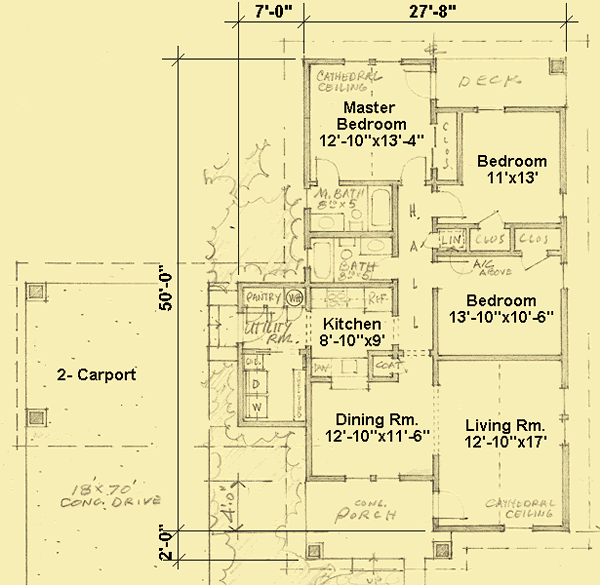door: (402, 67, 436, 104), (309, 151, 346, 185), (397, 151, 431, 187), (433, 188, 468, 222), (517, 250, 552, 271), (477, 209, 505, 228), (246, 302, 263, 326), (267, 304, 288, 322), (281, 307, 304, 320)
large sink: (336, 235, 358, 261), (347, 208, 367, 232)
small sink: (308, 211, 345, 234), (359, 238, 396, 258)
tub: (307, 235, 336, 286), (366, 184, 392, 233)
windows: (339, 52, 415, 70), (338, 469, 402, 487), (557, 381, 573, 449)
